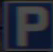Parking: (4, 4, 47, 43)
